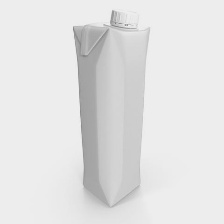carton: (66, 6, 155, 210)
